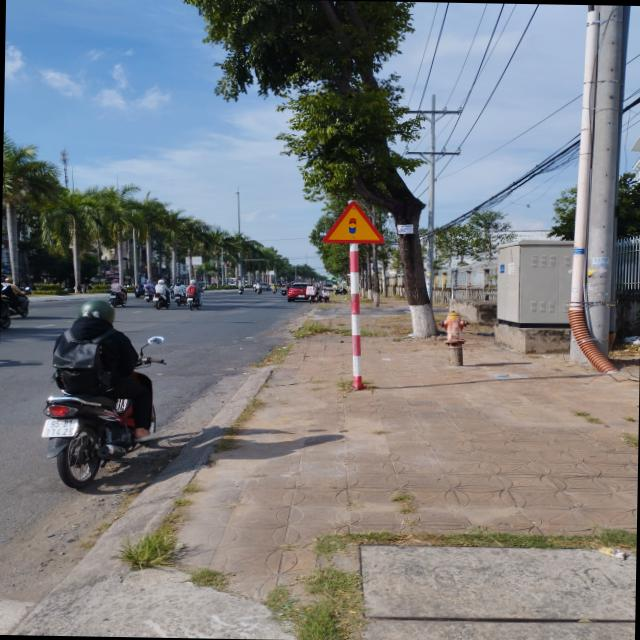Duong_Co_Go_Giam_Toc: (322, 201, 384, 243)
